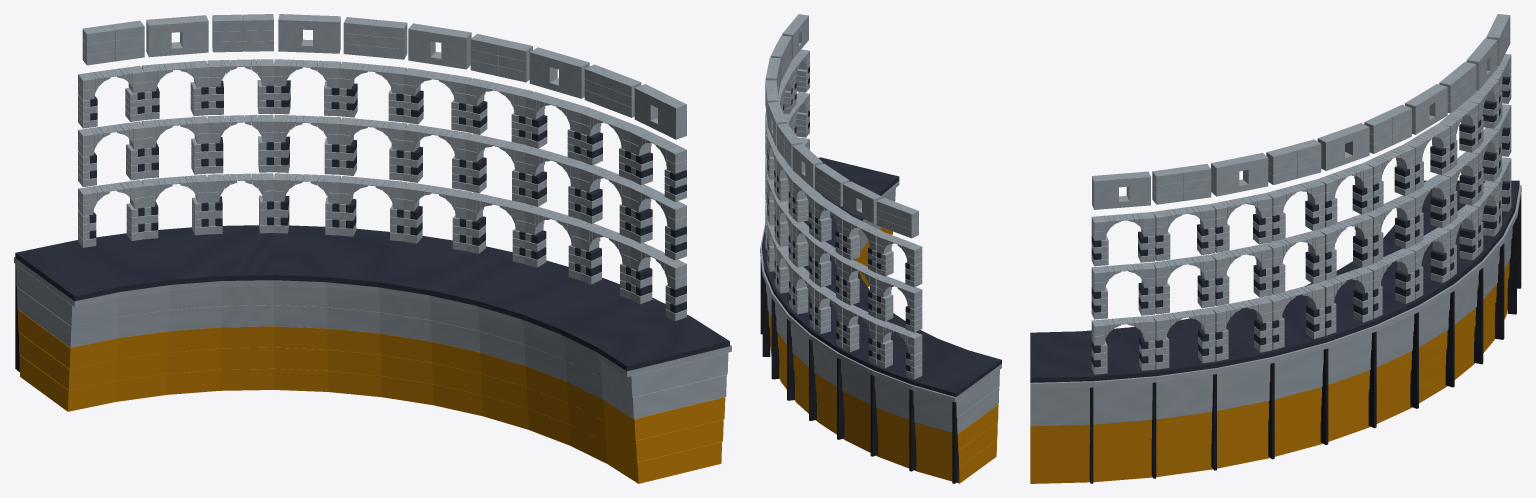
The model's file is COL_StoneMasonry_Q4.glb.
3 renders of one model, left to right at view 1: azimuth 30°, elevation 25°; view 2: azimuth 150°, elevation 25°; view 3: azimuth 270°, elevation 25°, orthographic. The views are drawn at different scales.
Visible parts, largest first — view 1: COL_StoneMasonry_Q4; view 2: COL_StoneMasonry_Q4; view 3: COL_StoneMasonry_Q4.
Boxes of the visible parts, bbox=[...] form: COL_StoneMasonry_Q4: bbox=[14, 14, 731, 483]; COL_StoneMasonry_Q4: bbox=[760, 14, 1001, 483]; COL_StoneMasonry_Q4: bbox=[1030, 14, 1521, 483].
Size of the model in its own units: 128 by 91.14 by 134.
4 materials, 4 textured.
